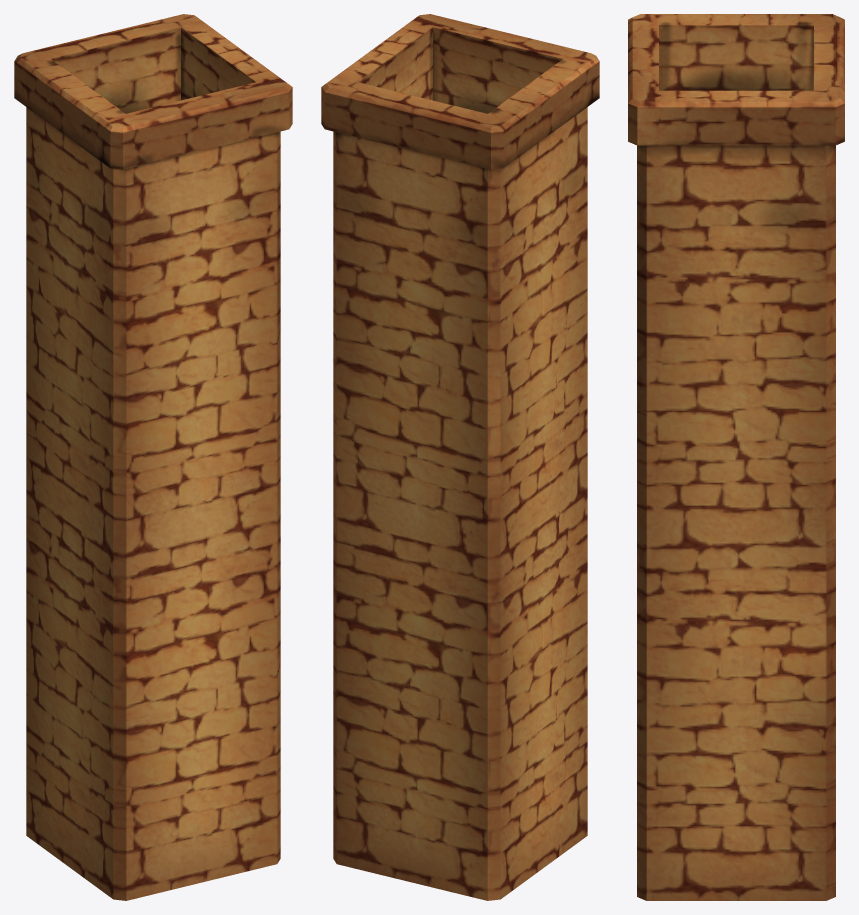
File: sb_obj_outdoor024_PrincessCastle01_chimney00.fbx
3 views of the same model, side by side, from view 1: azimuth 30°, elevation 25°; view 2: azimuth 150°, elevation 25°; view 3: azimuth 270°, elevation 25° (orthographic). The views are drawn at different scales.
Visible parts, largest first — view 1: sb_obj_outdoor024_PrincessCastle01_chimney00; view 2: sb_obj_outdoor024_PrincessCastle01_chimney00; view 3: sb_obj_outdoor024_PrincessCastle01_chimney00.
Part boxes in pixels (x1,y1,x2,y2): sb_obj_outdoor024_PrincessCastle01_chimney00: (14, 14, 292, 900); sb_obj_outdoor024_PrincessCastle01_chimney00: (321, 14, 599, 900); sb_obj_outdoor024_PrincessCastle01_chimney00: (628, 14, 844, 900).
Size of the model in its own units: 1.08 by 4.39 by 1.08.
